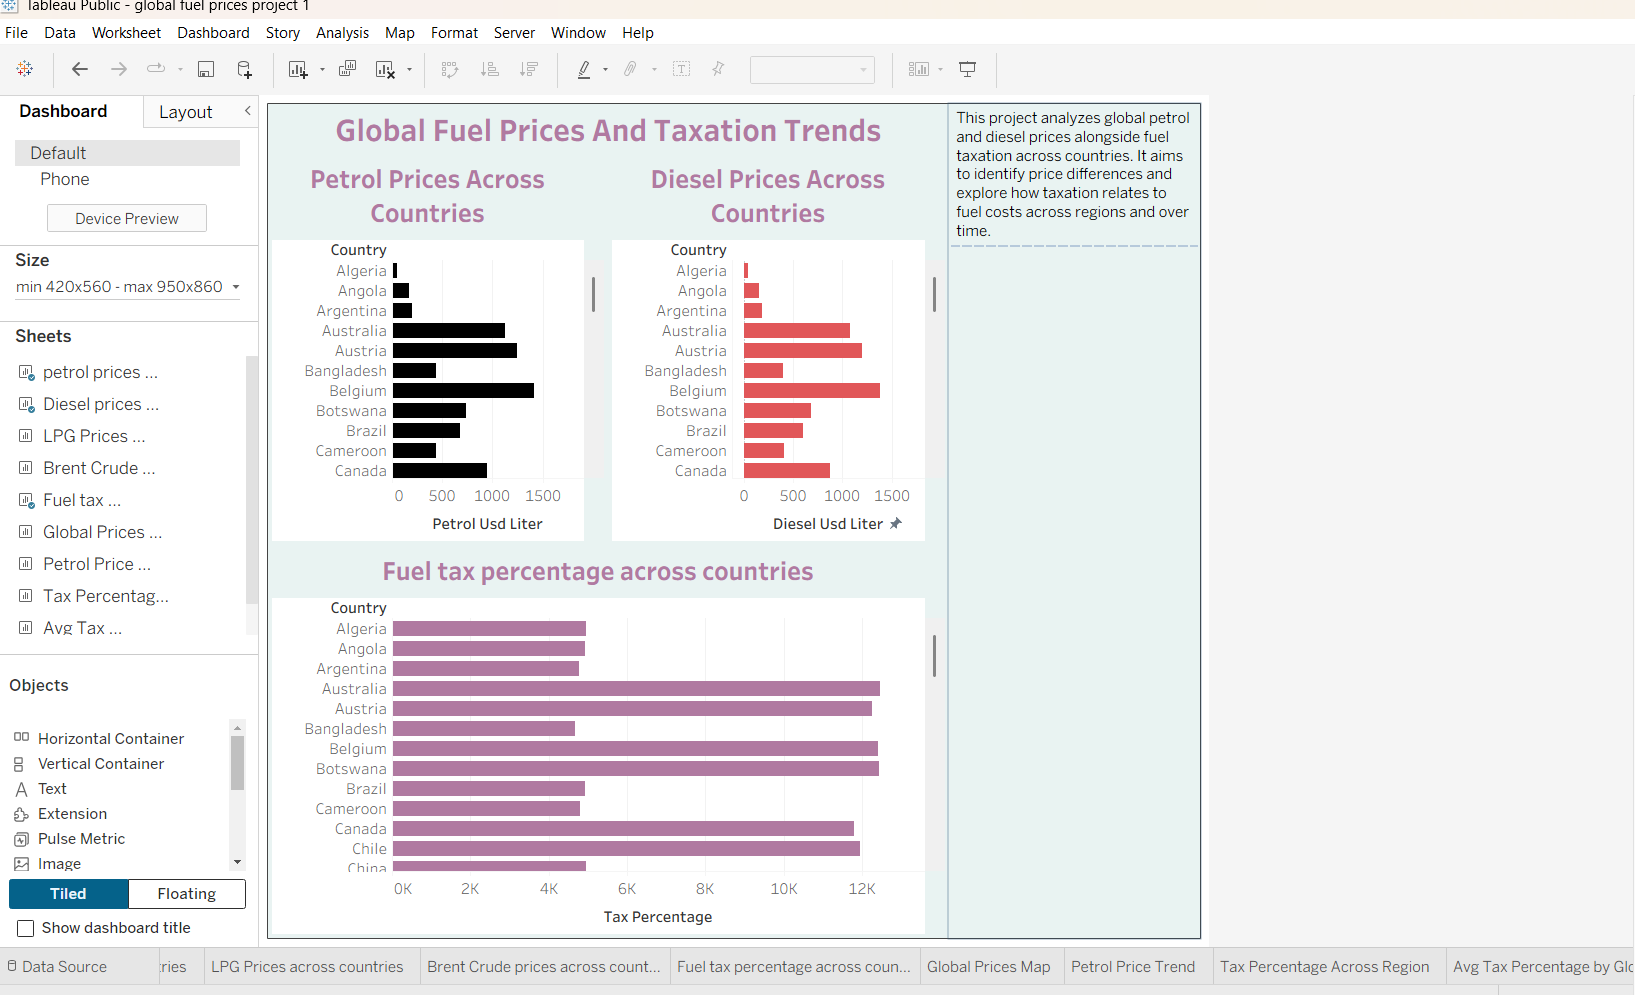

The dashboard page shown, as its layout file describes it:
{"tool":"tableau","page":{"name":"Dashboard 1","canvas":[1000,1000],"units":"permille","ordinal":0},"visuals":[{"type":"title","box":[9.5,10.6,716.9,57.5]},{"type":"text","box":[726.3,10.6,264.2,165.5]},{"type":"worksheet","title":"petrol prices across countries","mark":"Bar","rows":["country"],"cols":["petrol_usd_liter"],"box":[9.5,68.1,358.4,460.7]},{"type":"worksheet","title":"Diesel prices across countries","mark":"Automatic","rows":["country"],"cols":["diesel_usd_liter"],"box":[367.9,68.1,358.5,460.7]},{"type":"worksheet","title":"Fuel tax percentage across countries","mark":"Automatic","rows":["country"],"cols":["tax_percentage"],"box":[9.5,528.7,716.9,460.7]}]}

Visuals, with their boxes on the dashboard's canvas, which has no fixed pixel size, in thousandths of its width and height (x1, y1, x2, y2). These are canvas units, not pixel positions in the 1635x995 screenshot, which may show the page scaled, cropped or inside an application window:
title: detection(10, 11, 726, 68)
text: detection(726, 11, 990, 176)
"petrol prices across countries" worksheet (Bar marks): detection(10, 68, 368, 529)
"Diesel prices across countries" worksheet: detection(368, 68, 726, 529)
"Fuel tax percentage across countries" worksheet: detection(10, 529, 726, 989)
